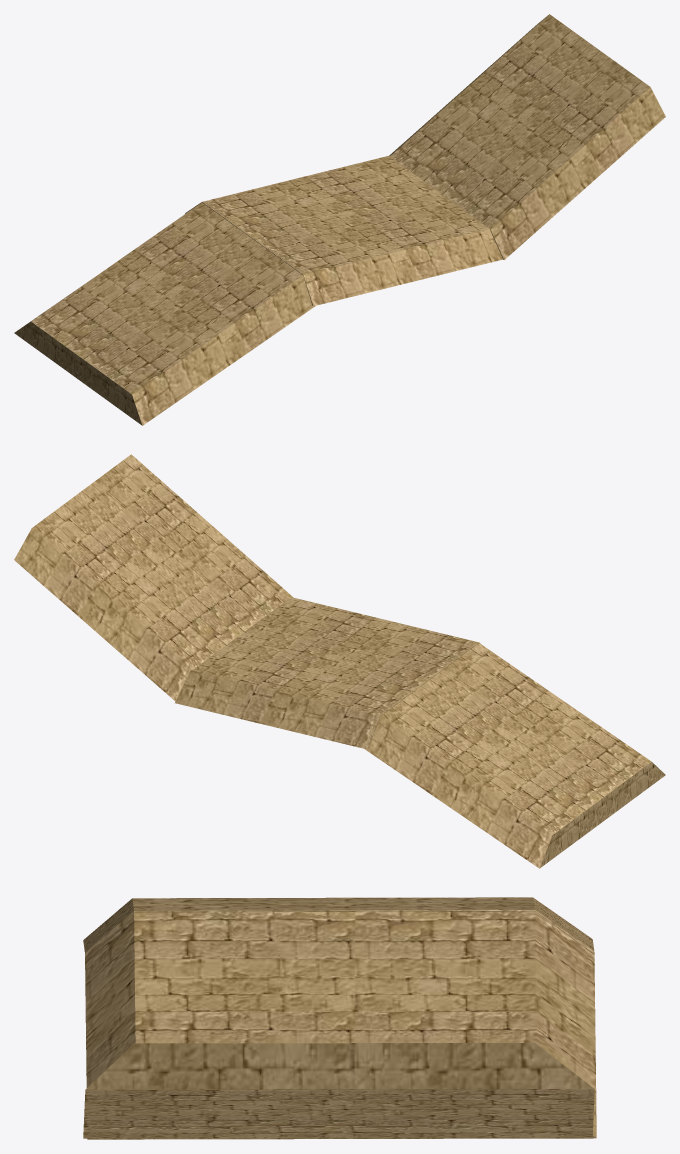
File: Platform_4.fbx
3 renders of one model, top to bottom at view 1: azimuth 30°, elevation 25°; view 2: azimuth 150°, elevation 25°; view 3: azimuth 270°, elevation 25°, orthographic. The views are drawn at different scales.
Visible parts, largest first — view 1: polySurface6, polySurface7, polySurface5; view 2: polySurface6, polySurface7, polySurface5; view 3: polySurface5, polySurface7, polySurface6.
Part boxes in pixels (box(x1,y1,x2,y2)): polySurface6: box(14, 201, 316, 425); polySurface7: box(389, 14, 665, 259); polySurface5: box(185, 155, 502, 306); polySurface6: box(363, 642, 665, 868); polySurface7: box(14, 454, 292, 701); polySurface5: box(175, 597, 480, 749); polySurface5: box(85, 910, 596, 1139); polySurface7: box(83, 1043, 594, 1138); polySurface6: box(83, 897, 594, 954).
Bounding box in the file's own units: 5.61 × 2.07 × 2.38.
